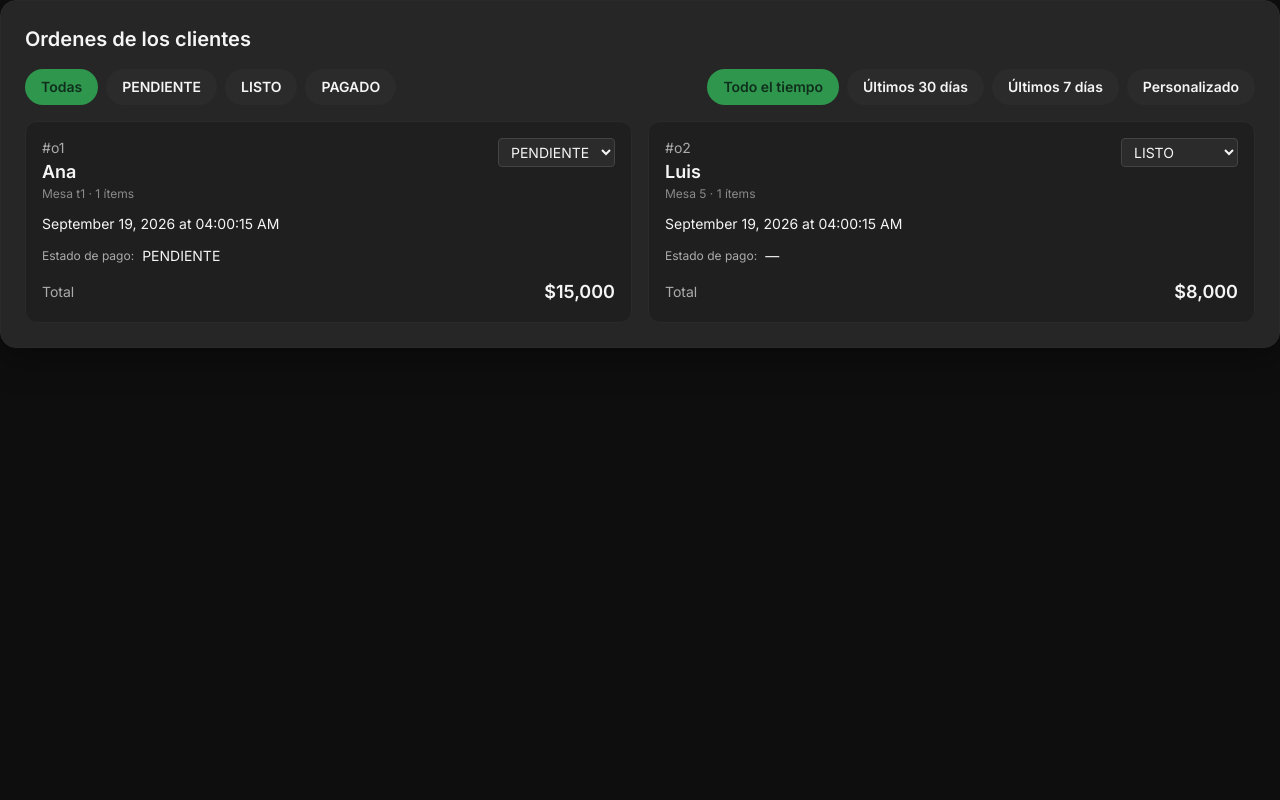
Test: RecentOrders (dashboard) › orden de cliente sin mesa: abre prompt y asigna mesa del modal
Check: the heading "Luis" is shown, box [665, 161, 701, 182]
# orden de cliente (userId) con mesa 5 inexistente → prompt "missing"
Select "PENDIENTE" in the dropdown in the row of "Luis" at (1180, 152), box [1121, 138, 1238, 167]
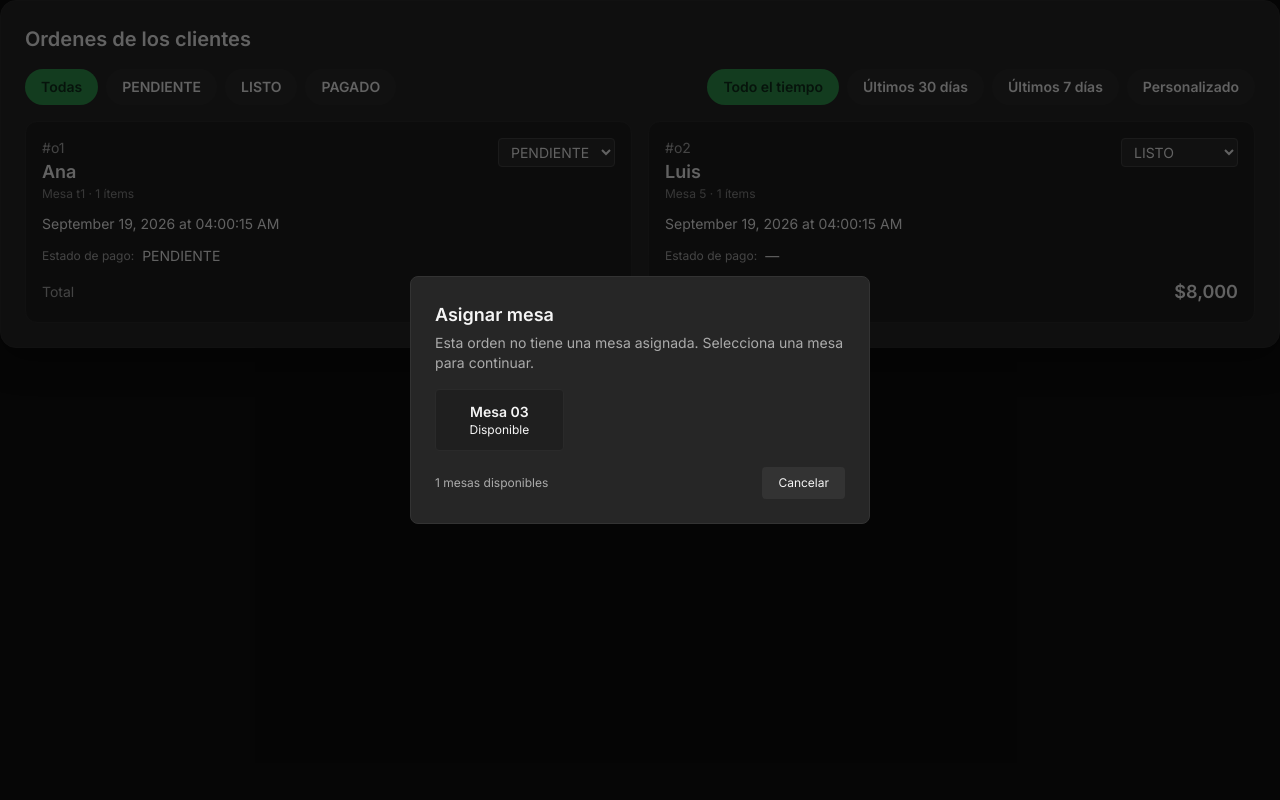
Check: the heading "Asignar mesa" is shown, box [435, 304, 554, 325]
Click the button "Mesa 03 Disponible" at (499, 420), box [435, 389, 564, 451]
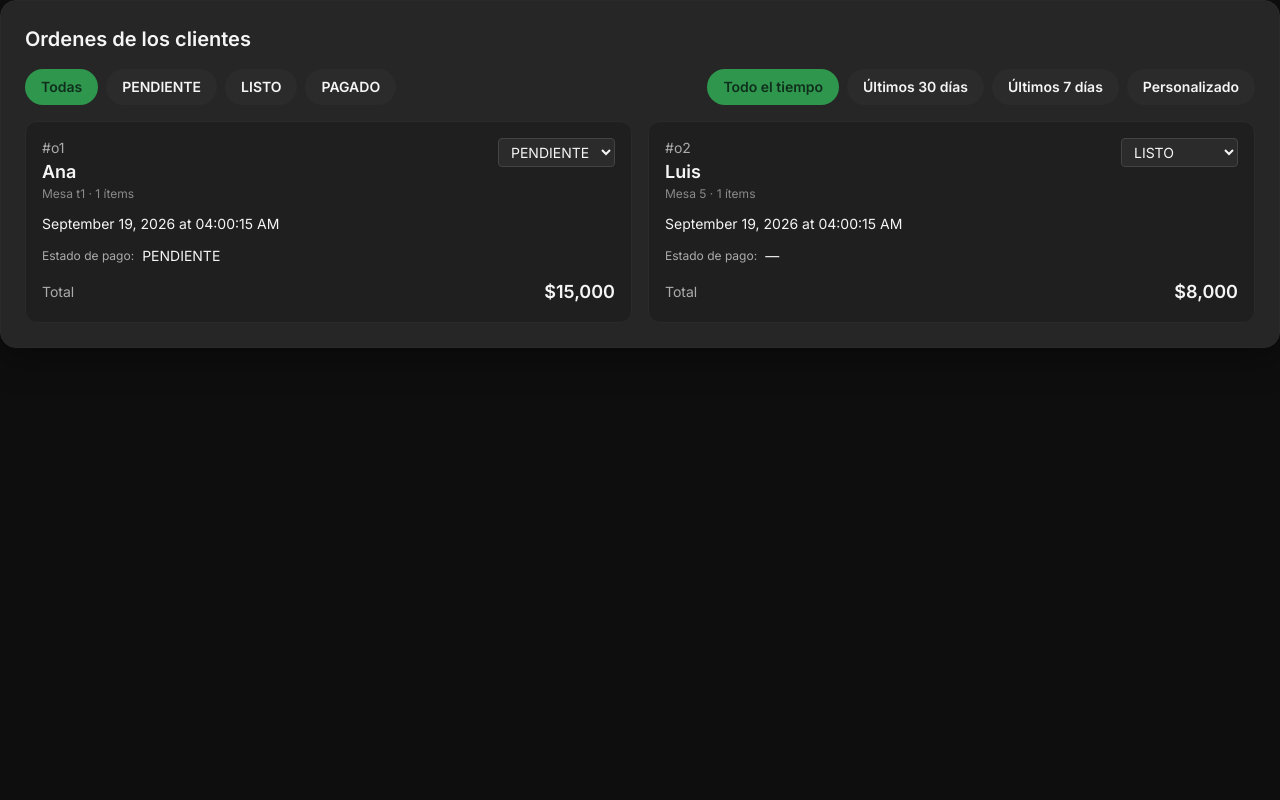
Check: the heading "Asignar mesa" is gone
